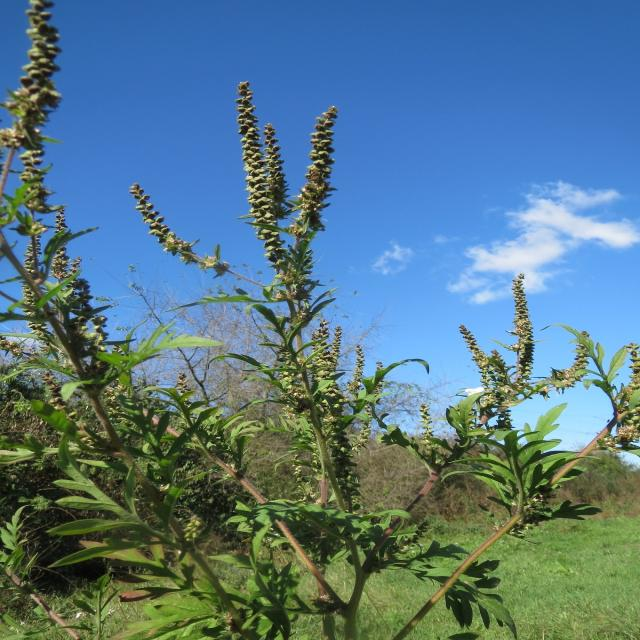ambrosia: (448, 257, 640, 505), (15, 304, 198, 480), (195, 88, 343, 275), (0, 0, 82, 254), (266, 330, 368, 462), (107, 165, 199, 265)
